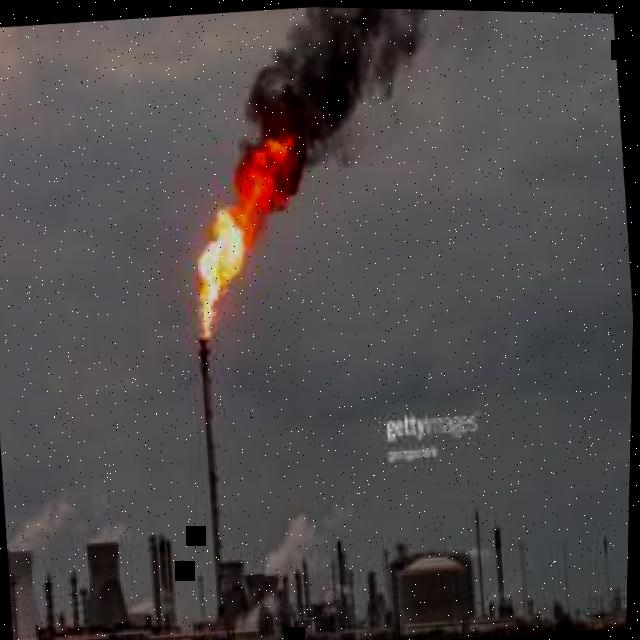fire: (197, 132, 305, 337)
smoke: (235, 5, 437, 174)
